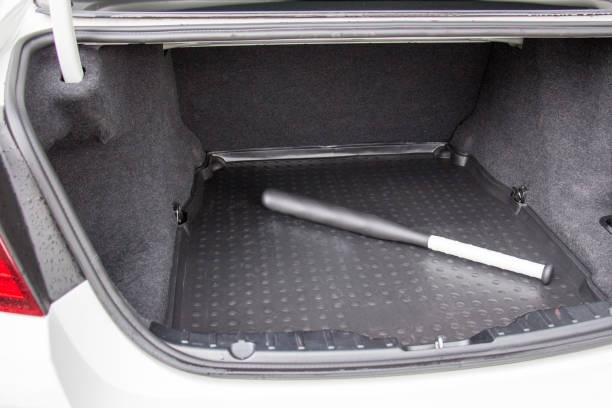bita: (263, 186, 554, 282)
